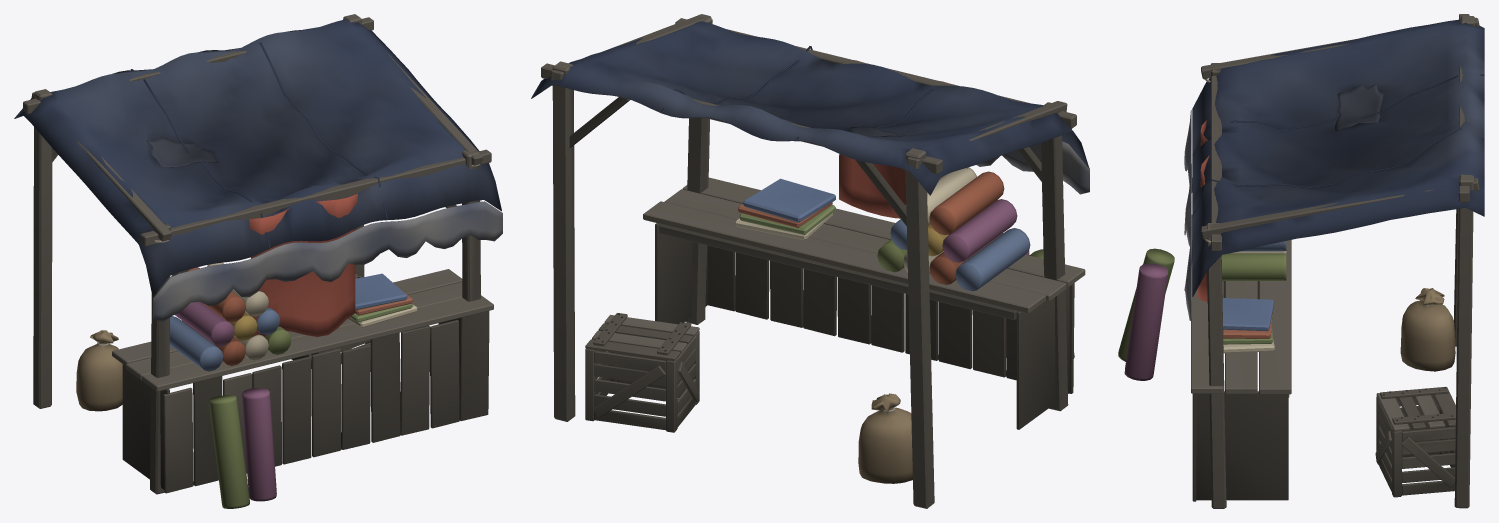
The model's file is stall_cloth.glb.
3 views of the same model, side by side, from view 1: azimuth 30°, elevation 25°; view 2: azimuth 150°, elevation 25°; view 3: azimuth 270°, elevation 25° (orthographic). The views are drawn at different scales.
Visible parts, largest first — view 1: stall_cloth_cloth, stall_cloth; view 2: stall_cloth, stall_cloth_cloth; view 3: stall_cloth_cloth, stall_cloth.
Boxes of the visible parts, x1=… form: stall_cloth_cloth: x1=14, y1=19, x2=502, y2=336; stall_cloth: x1=23, y1=14, x2=493, y2=508; stall_cloth: x1=541, y1=14, x2=1085, y2=508; stall_cloth_cloth: x1=531, y1=21, x2=1089, y2=218; stall_cloth_cloth: x1=1184, y1=19, x2=1484, y2=320; stall_cloth: x1=1118, y1=14, x2=1479, y2=508.
Size of what is drawn, in the model's own units: 2.92 by 2.51 by 2.51.
